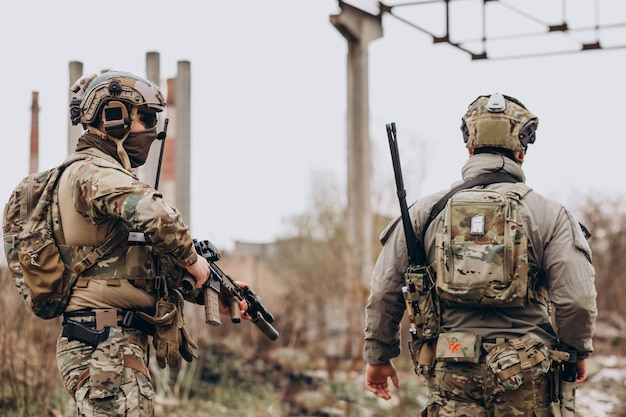gun: (174, 235, 280, 341), (382, 121, 426, 268), (60, 319, 114, 348)
